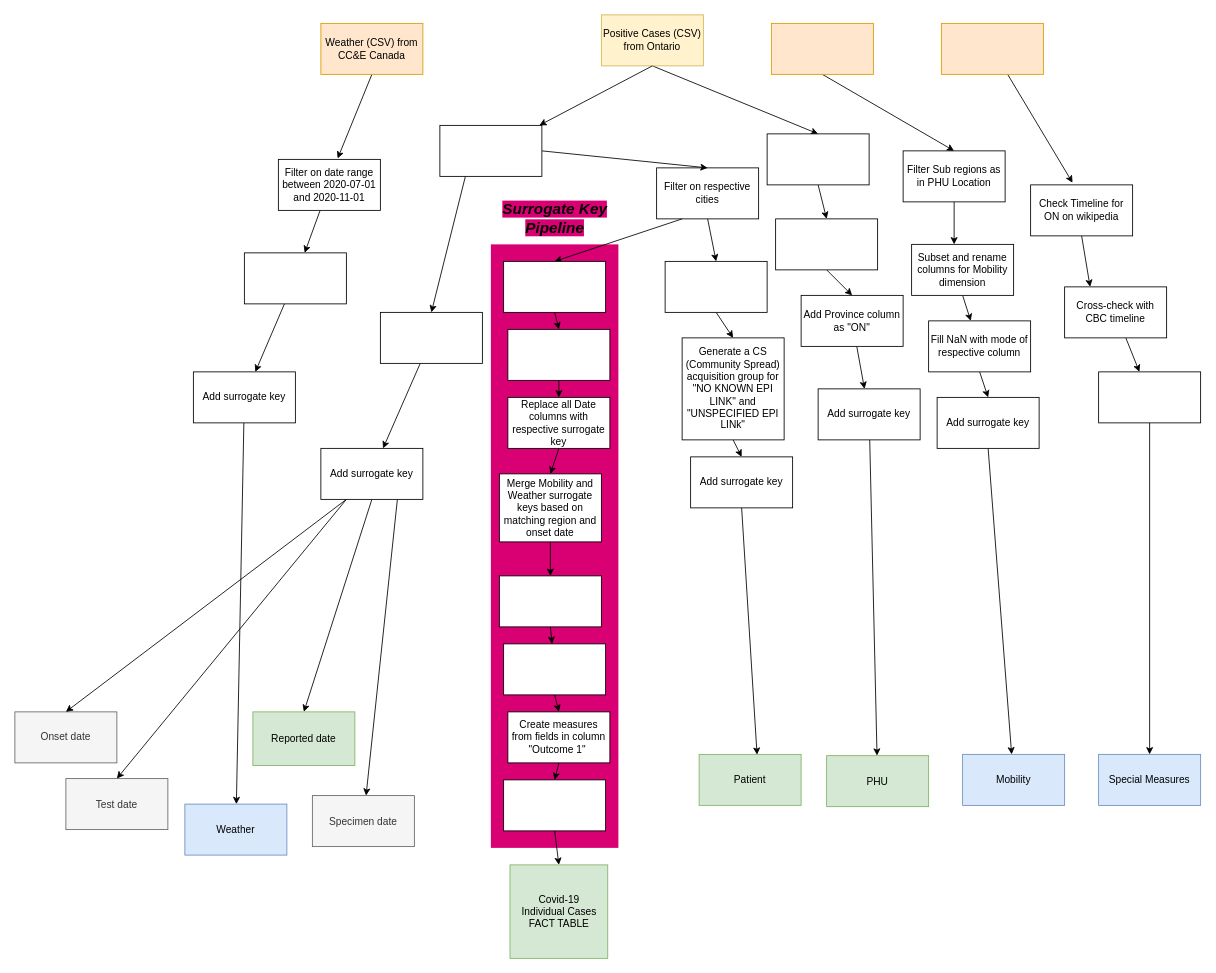
This 1216x973 diagram has some shape labels left out. Each missing label, with the box of its shape:
Announcements (harvest from URLs): (941, 23, 1043, 74)
Concatenate csv for Ottawa and Toronto: (244, 252, 346, 304)
Drop duplicates: (775, 218, 878, 270)
Fill NaN Dates based on other date columns: (503, 643, 606, 695)
Filter on Accurate Episode_Date between 2020-07-01 and 2020-11-01: (439, 125, 542, 176)
Generate date columns based on mix and max dates from all columns: (380, 312, 482, 363)
Manually input data in CSV and add surrogate keys: (1098, 371, 1201, 423)
Merge Special Measure surrogate key based on date range of onset date: (499, 575, 601, 627)
Mobility (CSV) from Google: (771, 23, 873, 74)
Replace each PHU ID with PHU surrogate key: (507, 329, 610, 380)
Replace each ROW_ID with Patient surrogate key: (503, 261, 606, 312)
Subset and rearrange only foreign key and measure columns: (503, 779, 606, 831)
Subset and rename columns for Patient dimension: (664, 261, 767, 312)
Subset and rename columns for PHU dimension: (766, 133, 869, 185)
